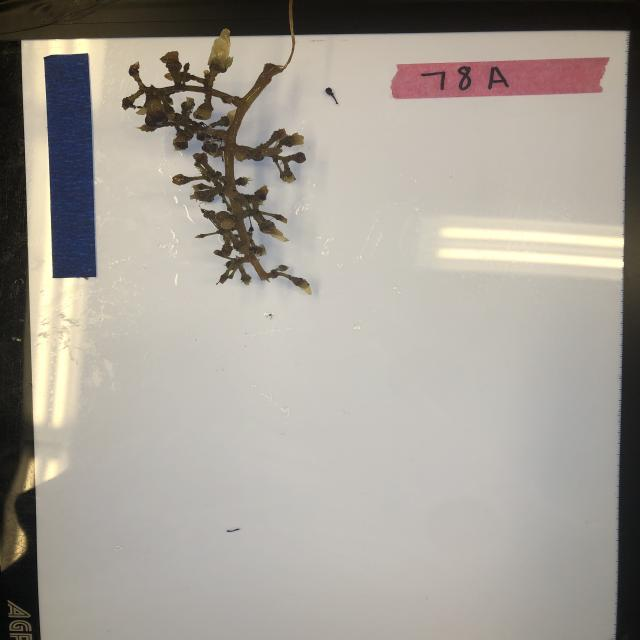index: (391, 56, 609, 101)
measure_label: (42, 52, 98, 280)
rachis_cluster: (118, 28, 317, 298)
